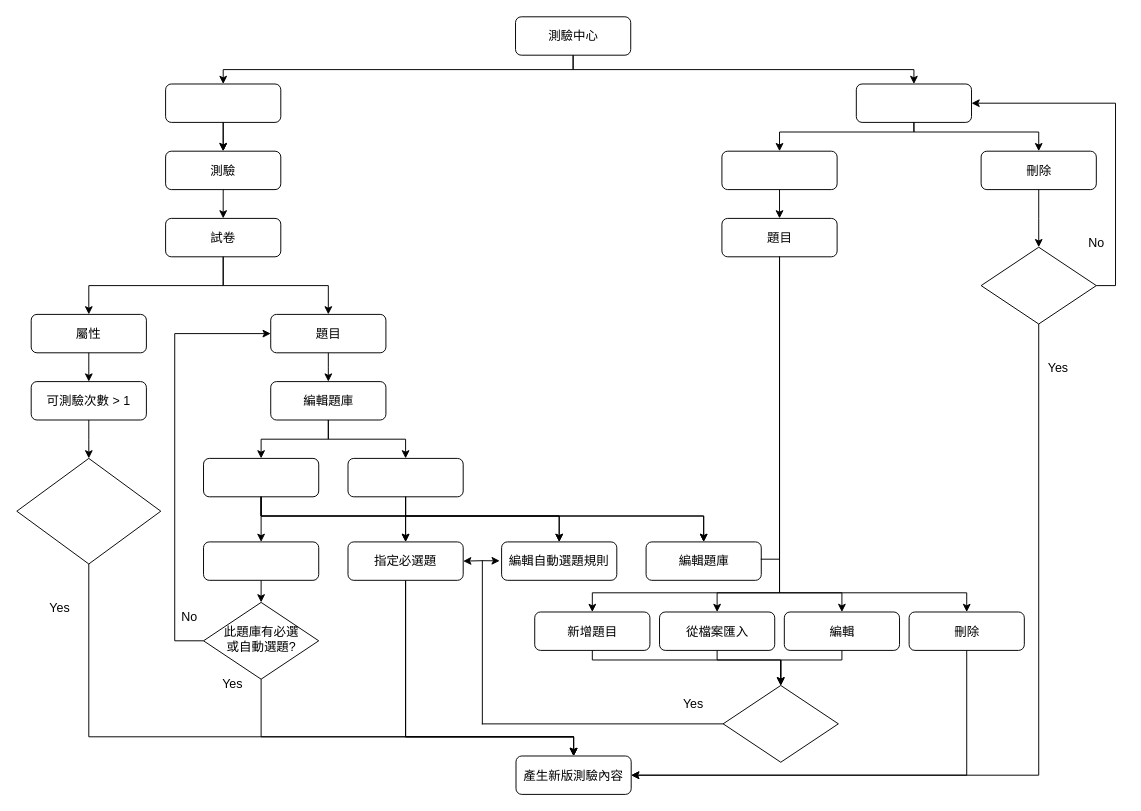
This 1141x811 diagram has some shape labels left out. The box of each missing label's shape, as (x1, y1, x2, y2) in pixels:
刪除此連結: (203, 541, 319, 580)
新增題庫: (203, 457, 319, 497)
是否加入必選 或是自動選題?: (722, 684, 838, 762)
此題庫是否 有被使用?: (980, 246, 1096, 324)
線上測驗管理: (165, 83, 281, 122)
連結題庫: (347, 457, 463, 497)
選擇題庫: (721, 150, 837, 190)
重複測試期間 是否有更改測驗內容?: (16, 457, 161, 564)
題庫管理: (855, 83, 972, 122)
